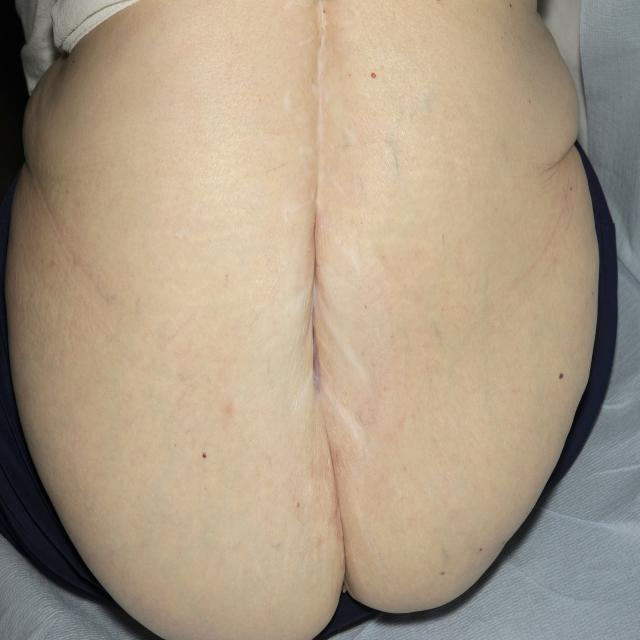wound: (259, 9, 372, 562)
